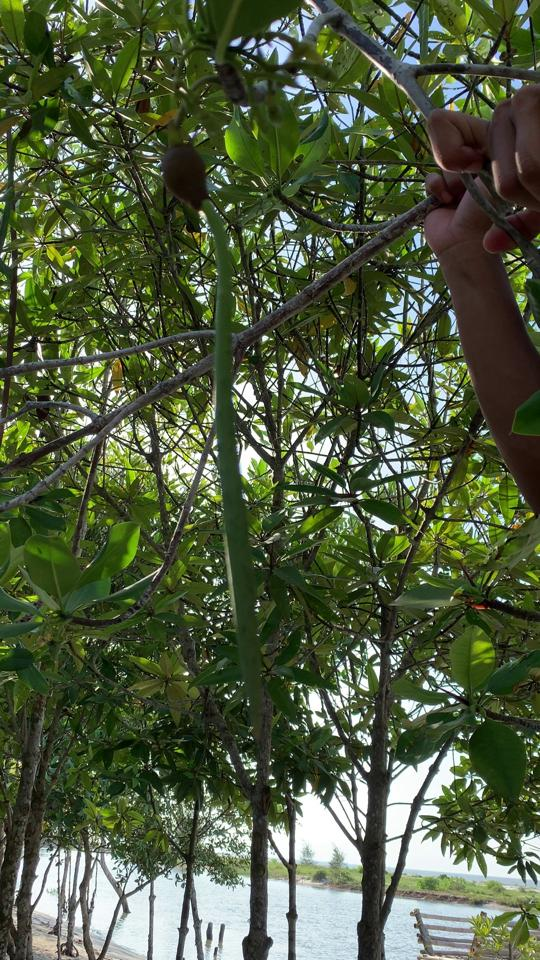mentah: (150, 125, 286, 763)
